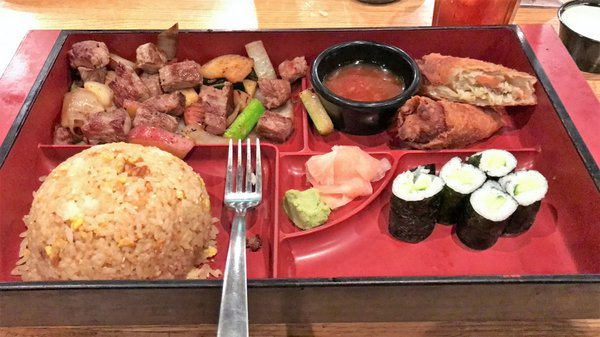burger: (216, 136, 261, 334)
sushi: (310, 41, 421, 135)
